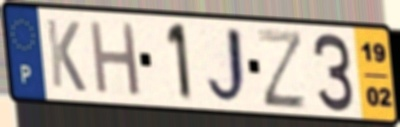1: (164, 21, 194, 105)
3: (309, 29, 355, 115)
H: (87, 18, 143, 99)
J: (203, 23, 252, 108)
K: (43, 16, 89, 95)
Z: (254, 26, 309, 111)
